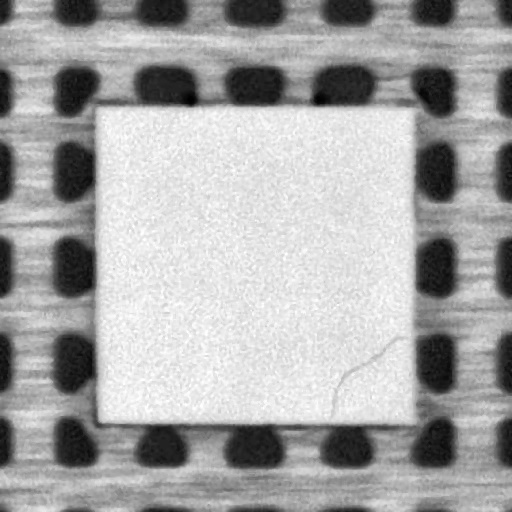DIE_CRACK: (328, 335, 409, 416)
